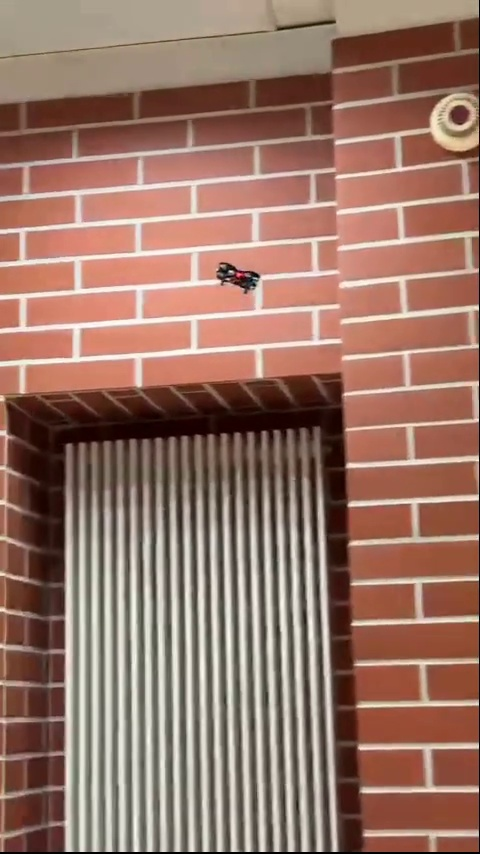drone: (212, 258, 260, 290)
